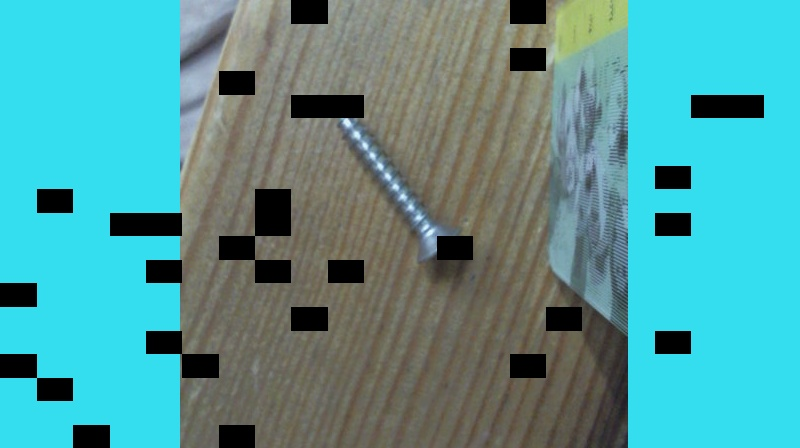S001: (327, 101, 465, 271)
